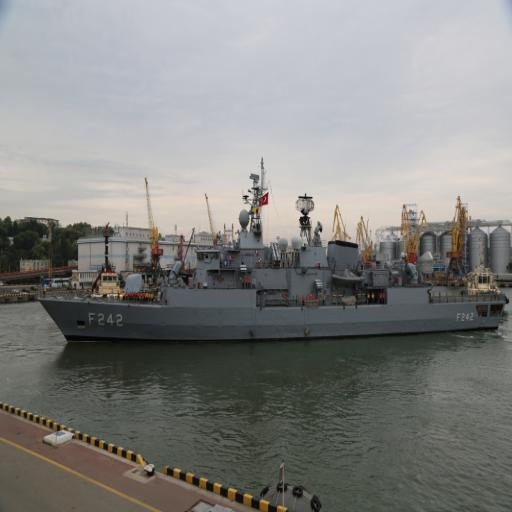Fragata: (36, 162, 512, 356)
